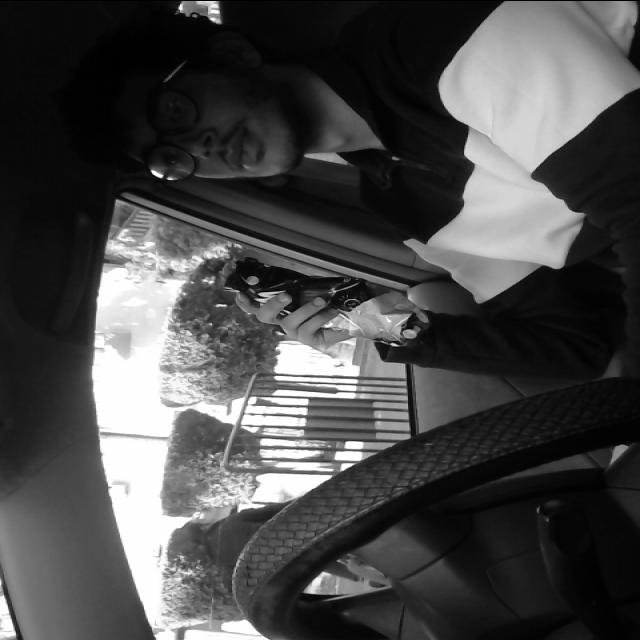eating: (214, 250, 444, 358)
